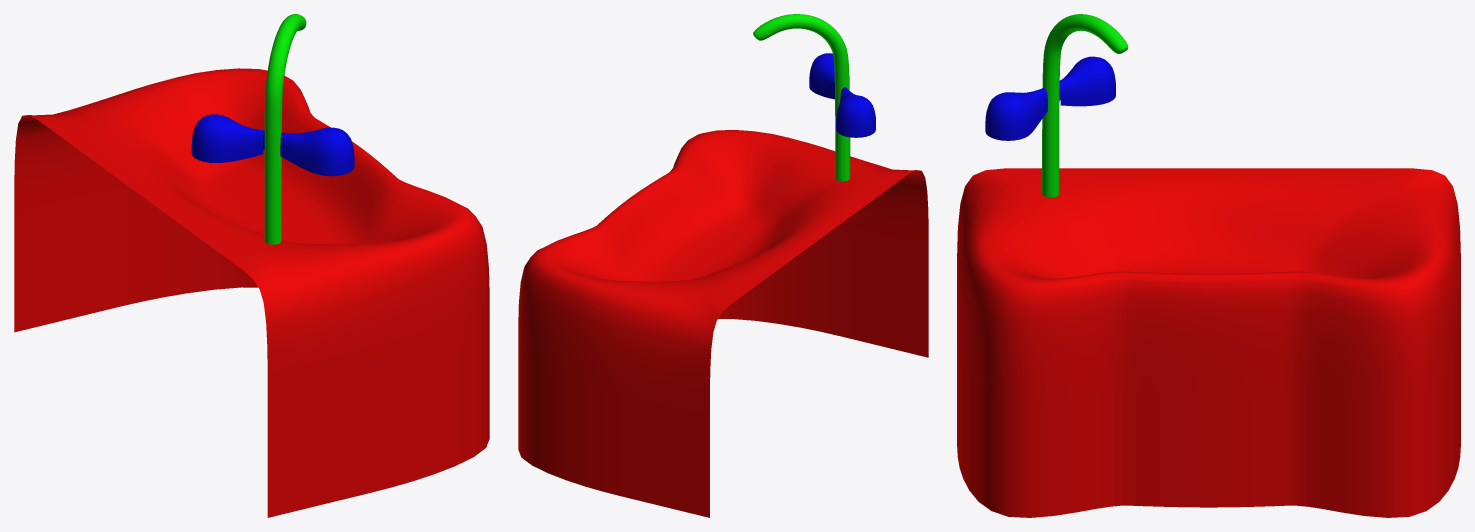
Rendered from Waschbecken_3_high.fbx.
3 views of the same model, side by side, from view 1: azimuth 30°, elevation 25°; view 2: azimuth 150°, elevation 25°; view 3: azimuth 270°, elevation 25° (orthographic). The views are drawn at different scales.
Visible parts, largest first — view 1: Waschbecken_3_high; view 2: Waschbecken_3_high; view 3: Waschbecken_3_high.
Boxes of the visible parts, box(x1,y1,x2,y2) form: Waschbecken_3_high: box(14, 14, 489, 517); Waschbecken_3_high: box(518, 14, 928, 517); Waschbecken_3_high: box(957, 14, 1460, 517).
Bounding box in the file's own units: 0.5798 × 0.9263 × 1.
